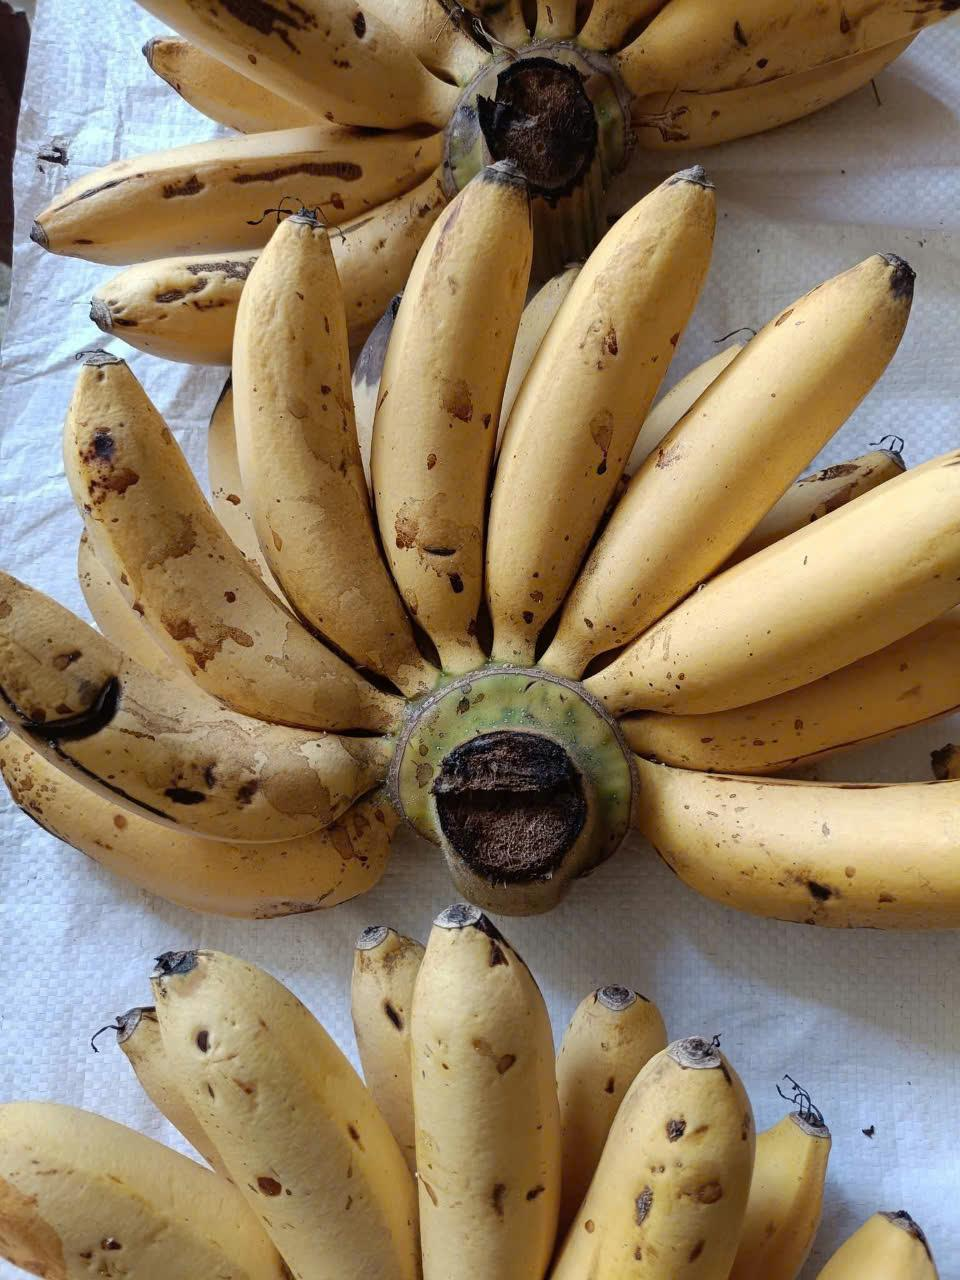banana: (0, 158, 960, 888), (3, 926, 955, 1280), (58, 6, 960, 319)
